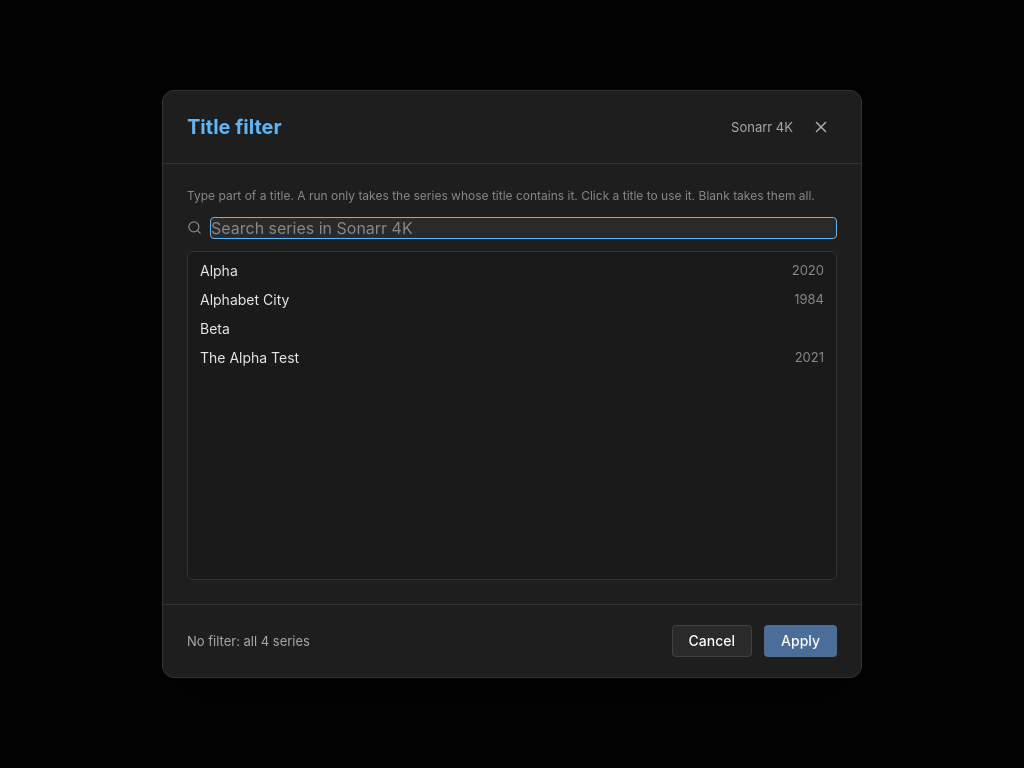
Test: TitleFilterModal › shows which titles the text matches, as a run would, and uses a clicked title
Later steps or results of the test are not shown.
Expected: the list named "Matching titles" is shown, [192,256,832,372]
Expected: the text "No filter: all 4 series" is shown, [187,633,310,649]
Note: The title contains the text, capitals aside. The year is not part of it.
In the search field named "Title filter text": (524, 228) [210,217,837,239], type "ALPHA"
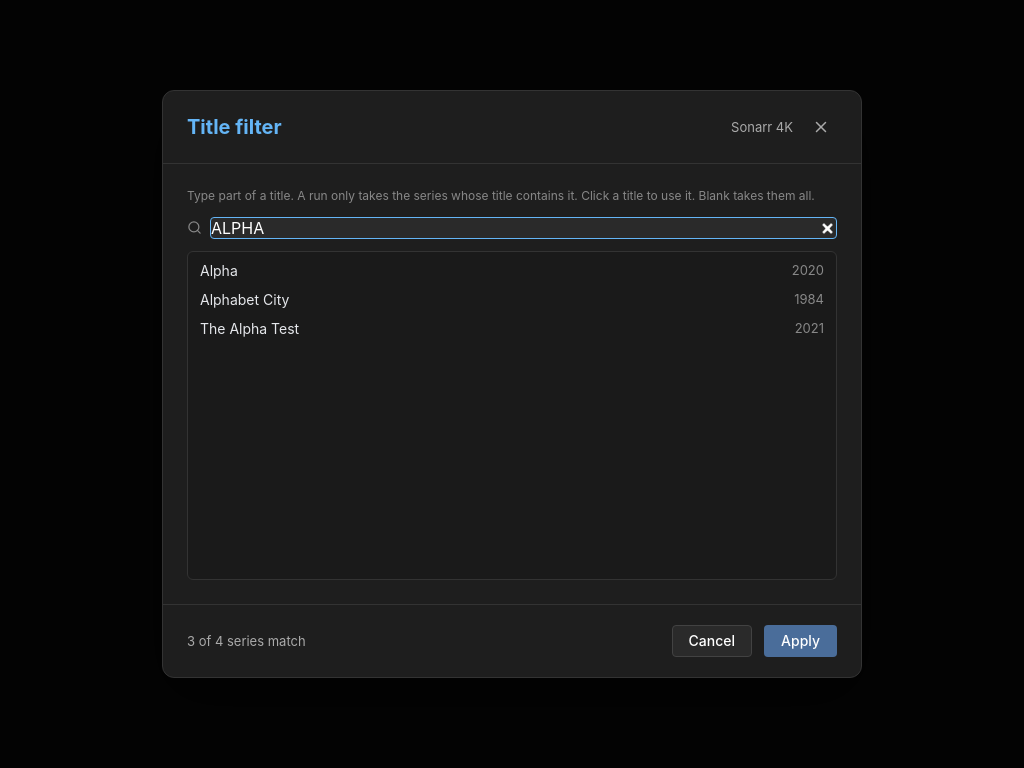
Expected: the text "3 of 4 series match" is shown, [187,633,306,649]
Replace the text in the search field named "Title filter text" with "2020": (524, 228) [210,217,837,239]
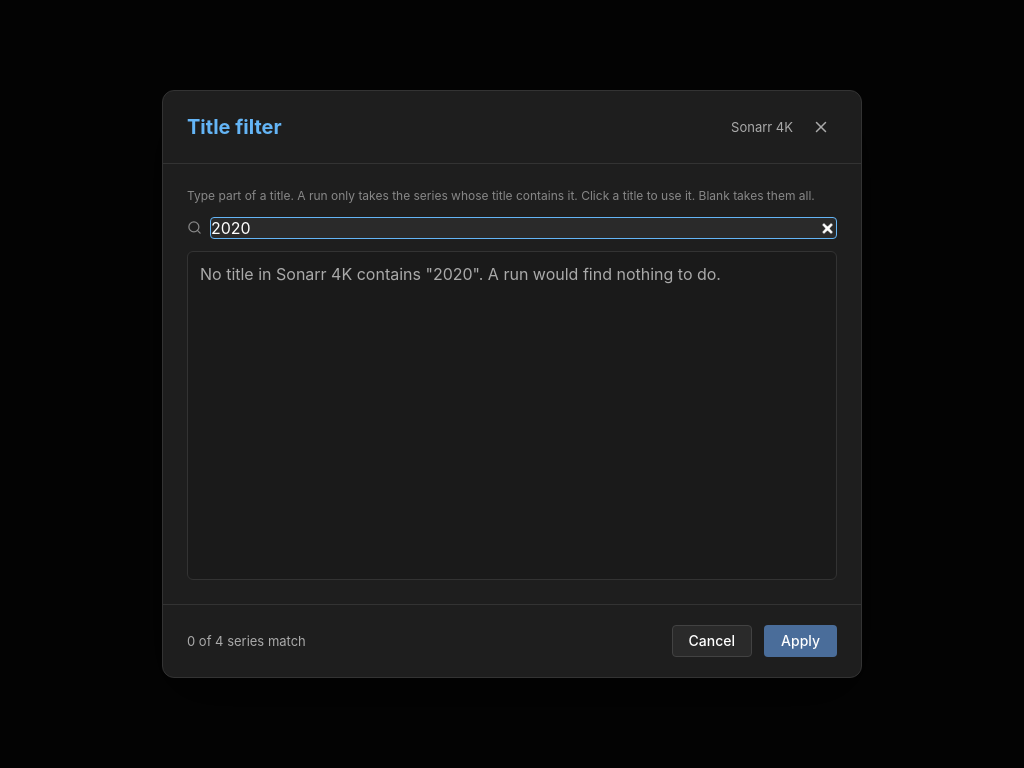
Expected: the text "No title in Sonarr 4K contains \"2020\". A run would find nothing to do." is shown, [200,264,721,284]
Note: A clicked title becomes the text, and the list shows what that still matches.
Replace the text in the search field named "Title filter text" with "alphab": (524, 228) [210,217,837,239]
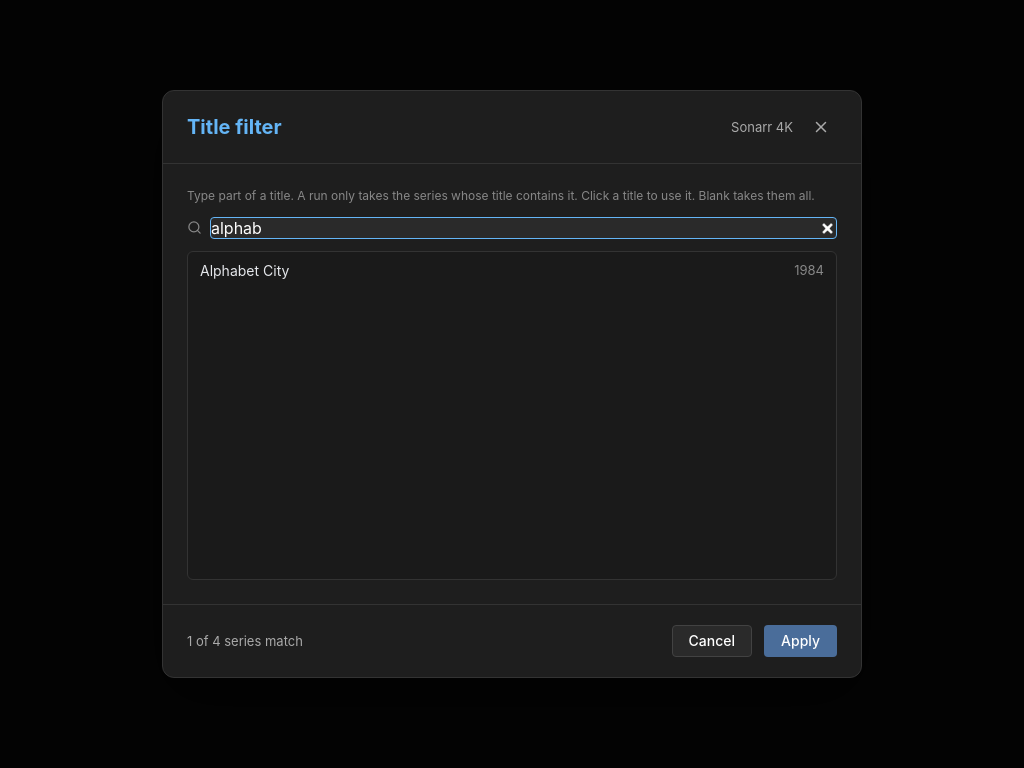
Click the button "Alphabet City 1984": (245, 270) [192,256,832,285]
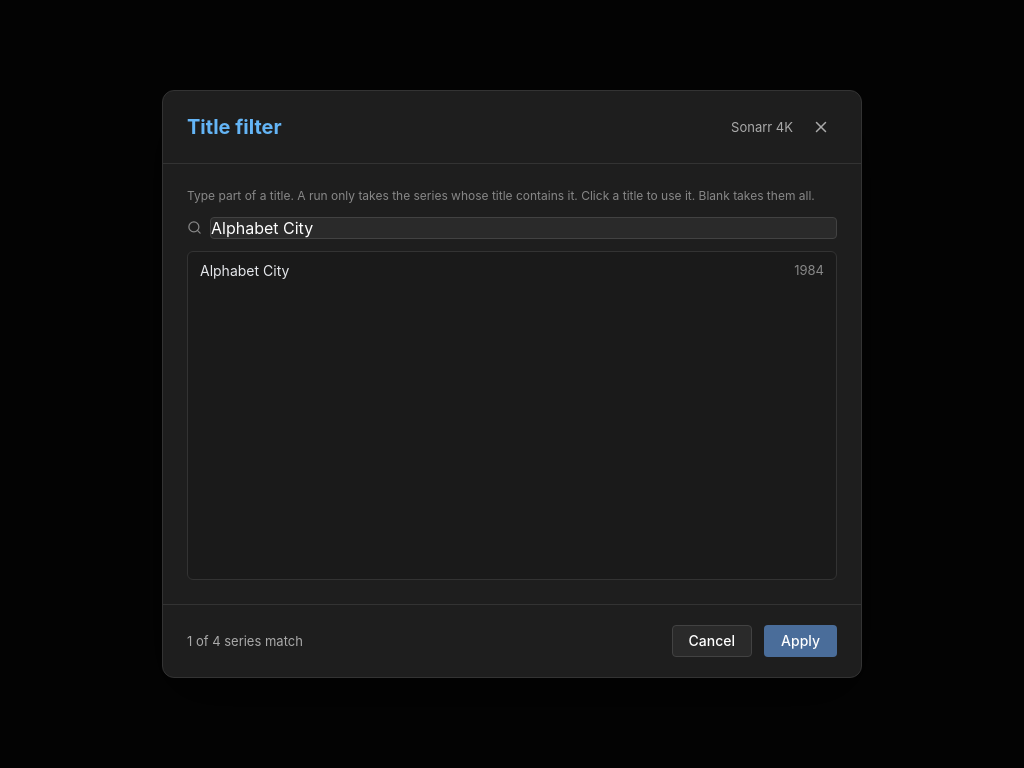
Expected: the text "1 of 4 series match" is shown, [187,633,303,649]
Expected: the search field named "Title filter text" holds "Alphabet City", [210,217,837,239]
